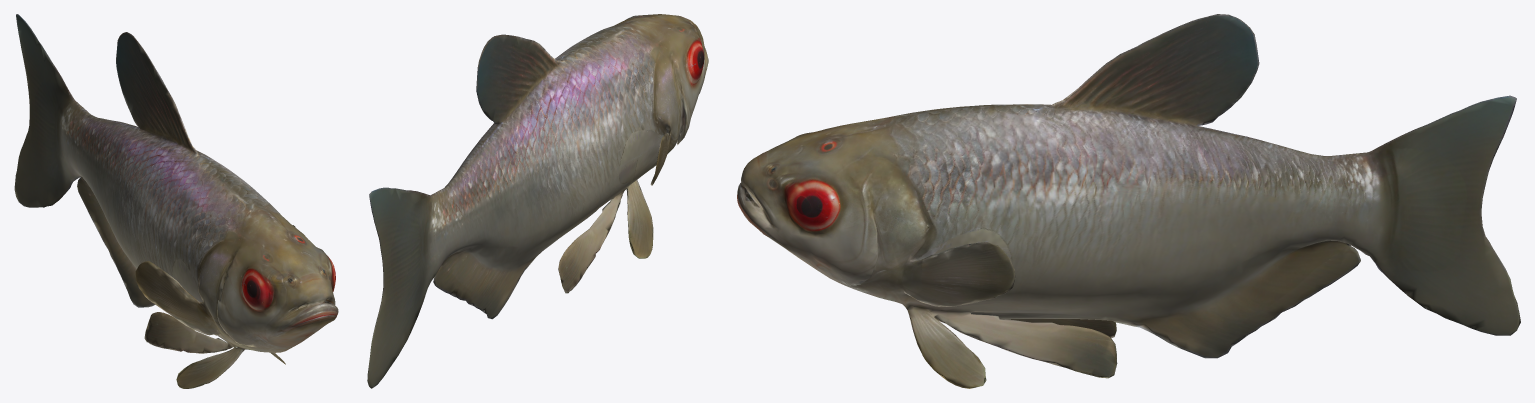
The model's file is red_eye_0604070721_texture.glb.
3 renders of one model, left to right at view 1: azimuth 30°, elevation 25°; view 2: azimuth 150°, elevation 25°; view 3: azimuth 270°, elevation 25°, orthographic. The views are drawn at different scales.
Size of the model in its own units: 0.5752 by 0.9685 by 1.99.
1 material, 1 textured.
